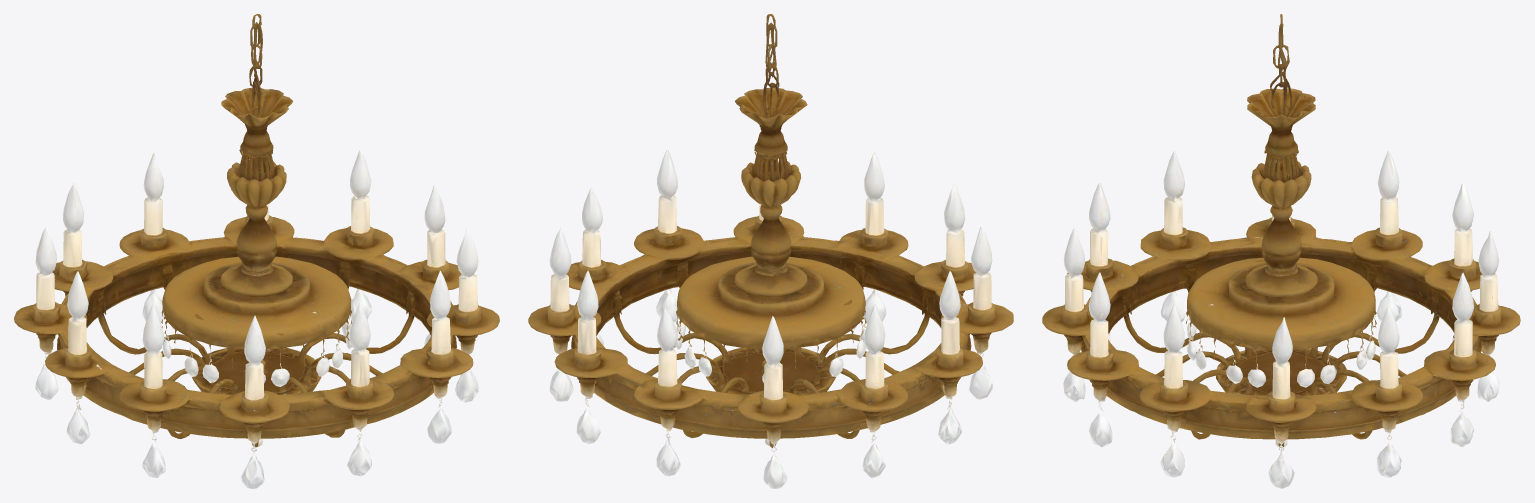
The model's file is chandelier.glb.
3 renders of one model, left to right at view 1: azimuth 30°, elevation 25°; view 2: azimuth 150°, elevation 25°; view 3: azimuth 270°, elevation 25°, orthographic.
Bounding box in the file's own units: 1.9 × 1.9 × 1.9.
Materials: 1 (1 with a texture image).
